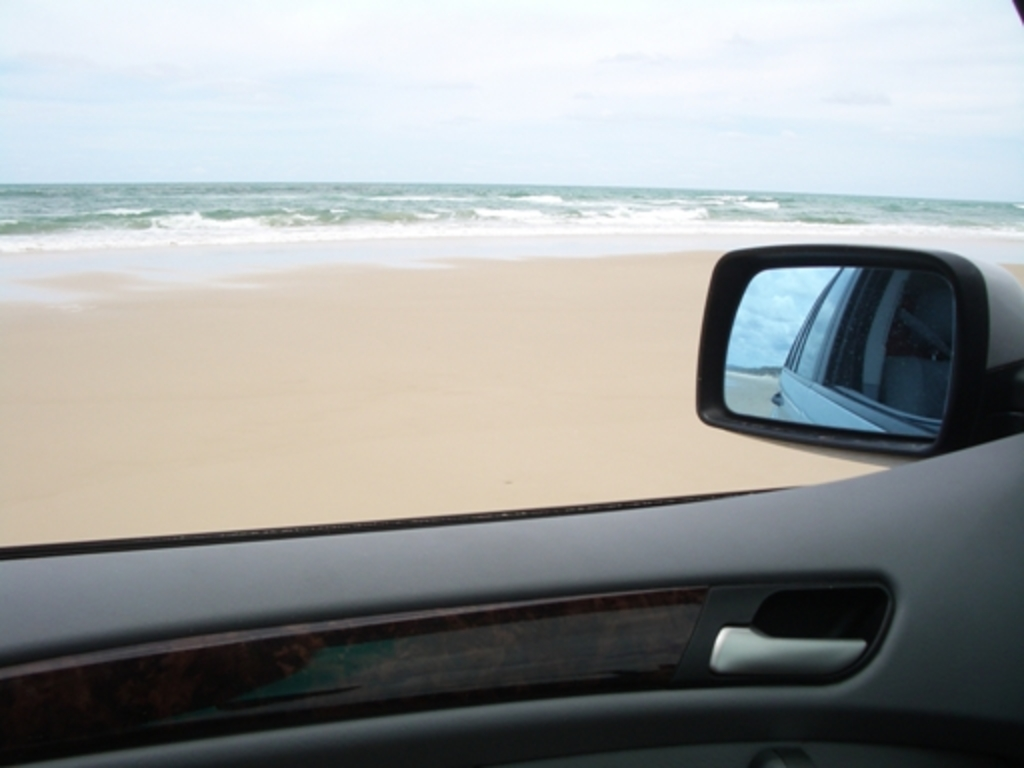Car: (17, 166, 1024, 766)
